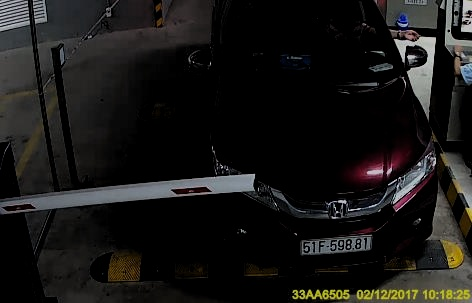plate: (298, 230, 372, 254)
